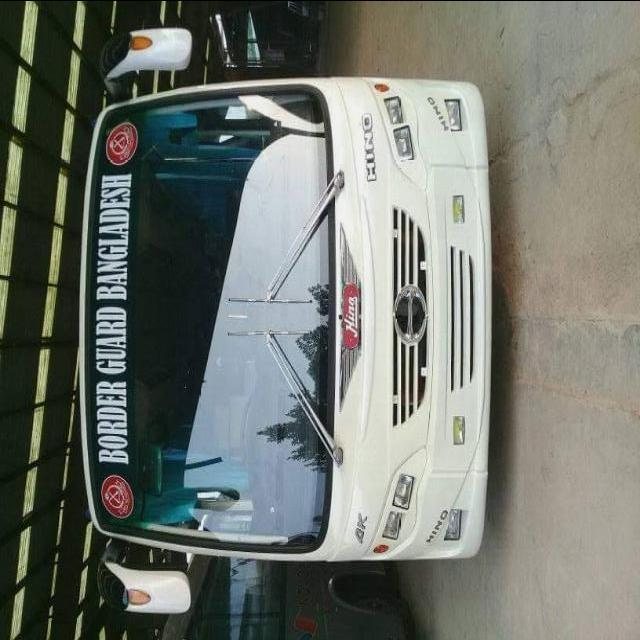bus: (75, 24, 494, 617)
